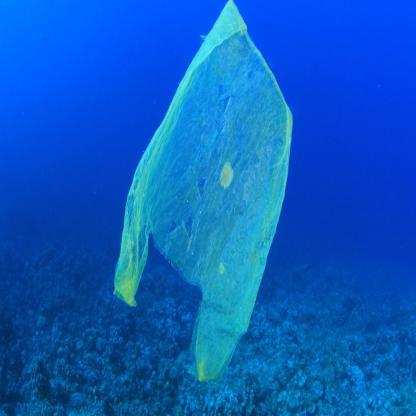Rác: (120, 4, 291, 365)
